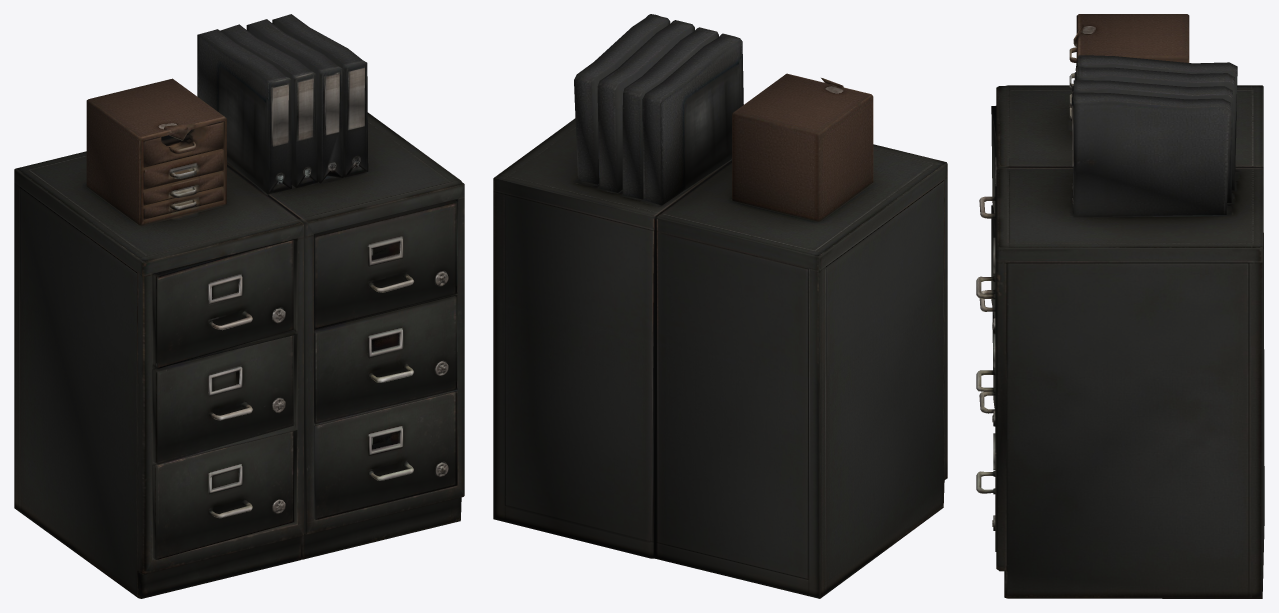
The model's file is OfficeFileCabinet.fbx.
3 renders of one model, left to right at view 1: azimuth 30°, elevation 25°; view 2: azimuth 150°, elevation 25°; view 3: azimuth 270°, elevation 25°, orthographic. The views are drawn at different scales.
Visible parts, largest first — view 1: tripo_node_d266dfe0; view 2: tripo_node_d266dfe0; view 3: tripo_node_d266dfe0.
Boxes of the visible parts, x1=… form: tripo_node_d266dfe0: x1=14, y1=14, x2=464, y2=598; tripo_node_d266dfe0: x1=493, y1=14, x2=947, y2=598; tripo_node_d266dfe0: x1=976, y1=14, x2=1264, y2=598.
Bounding box in the file's own units: 0.752 × 0.998 × 0.5605.
